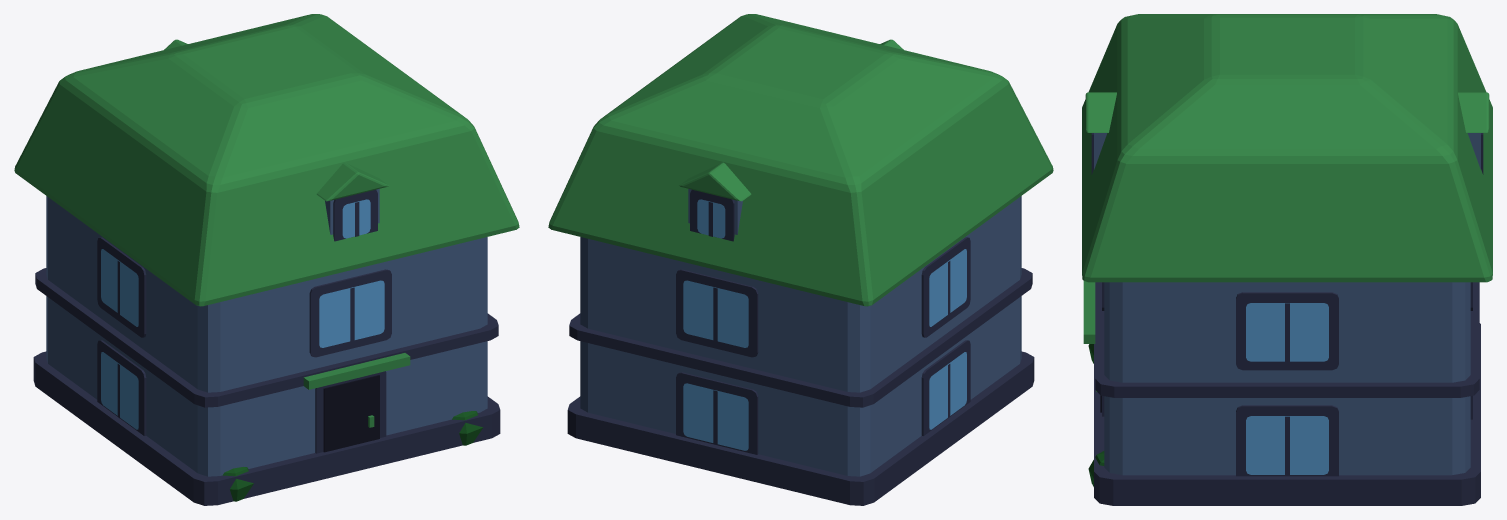
Rendered from house-1x1-2f-mansard-b.glb.
The picture shows the model from 3 angles, left to right: view 1: azimuth 30°, elevation 25°; view 2: azimuth 150°, elevation 25°; view 3: azimuth 270°, elevation 25°; orthographic projection. The views are drawn at different scales.
Parts seen in each view (by area): view 1: house-1x1-2f-mansard-b; view 2: house-1x1-2f-mansard-b; view 3: house-1x1-2f-mansard-b.
Boxes of the visible parts, box(x1,y1,x2,y2) form: house-1x1-2f-mansard-b: box(14, 14, 519, 505); house-1x1-2f-mansard-b: box(548, 14, 1053, 505); house-1x1-2f-mansard-b: box(1082, 14, 1492, 505).
Size of the model in its own units: 0.9876 by 1 by 0.9876.
1 material, 1 textured.
